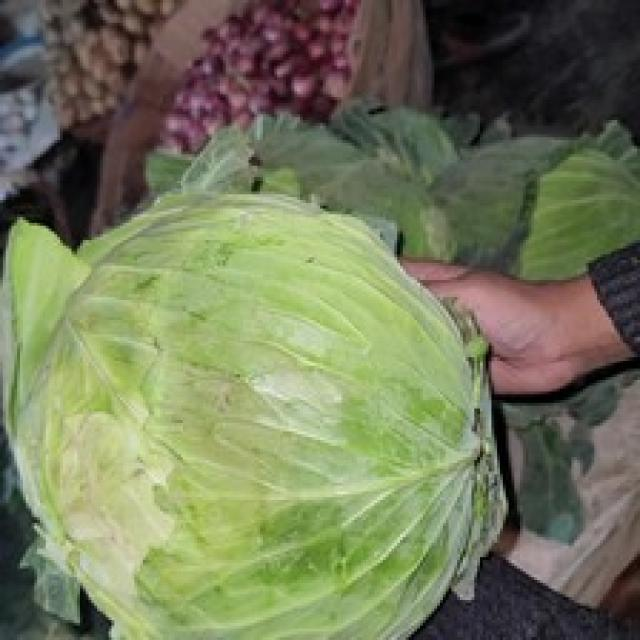Cabbage: (0, 160, 509, 637)
